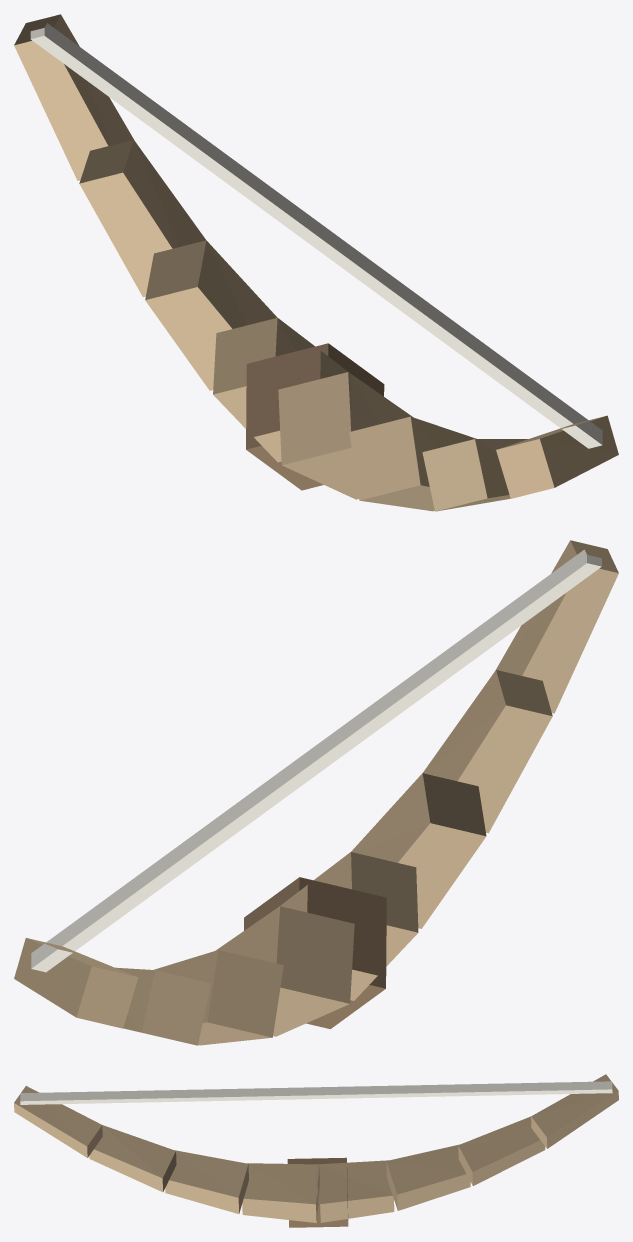
The model's file is prop_bow.glb.
3 views of the same model, one above another, from view 1: azimuth 30°, elevation 25°; view 2: azimuth 150°, elevation 25°; view 3: azimuth 270°, elevation 25° (orthographic). The views are drawn at different scales.
Parts seen in each view (by area): view 1: Arm.R.Lower.Tool.Bow.String, Arm.R.Lower.Tool.Bow#3, Arm.R.Lower.Tool.Bow#2, Arm.R.Lower.Tool.Bow#5, Arm.R.Lower.Tool.Bow, Arm.R.Lower.Tool.Bow#6, Arm.R.Lower.Tool.Bow.Grip, Arm.R.Lower.Tool.Bow#4, Arm.R.Lower.Tool.Bow#8, Arm.R.Lower.Tool.Bow#7; view 2: Arm.R.Lower.Tool.Bow.String, Arm.R.Lower.Tool.Bow#6, Arm.R.Lower.Tool.Bow#7, Arm.R.Lower.Tool.Bow#4, Arm.R.Lower.Tool.Bow#8, Arm.R.Lower.Tool.Bow#3, Arm.R.Lower.Tool.Bow.Grip, Arm.R.Lower.Tool.Bow, Arm.R.Lower.Tool.Bow#5, Arm.R.Lower.Tool.Bow#2; view 3: Arm.R.Lower.Tool.Bow.String, Arm.R.Lower.Tool.Bow#5, Arm.R.Lower.Tool.Bow#4, Arm.R.Lower.Tool.Bow#3, Arm.R.Lower.Tool.Bow#6, Arm.R.Lower.Tool.Bow#2, Arm.R.Lower.Tool.Bow#7, Arm.R.Lower.Tool.Bow, Arm.R.Lower.Tool.Bow#8, Arm.R.Lower.Tool.Bow.Grip.
Part boxes in pixels (x1,y1,x2,y2): Arm.R.Lower.Tool.Bow.String: (30,23,602,448); Arm.R.Lower.Tool.Bow#3: (145,240,280,390); Arm.R.Lower.Tool.Bow#2: (79,140,208,297); Arm.R.Lower.Tool.Bow#5: (278,372,413,499); Arm.R.Lower.Tool.Bow: (14,14,135,180); Arm.R.Lower.Tool.Bow#6: (349,416,476,511); Arm.R.Lower.Tool.Bow.Grip: (246,343,384,490); Arm.R.Lower.Tool.Bow#4: (213,317,350,462); Arm.R.Lower.Tool.Bow#8: (496,415,618,498); Arm.R.Lower.Tool.Bow#7: (422,439,527,511); Arm.R.Lower.Tool.Bow.String: (31,549,601,972); Arm.R.Lower.Tool.Bow#6: (347,773,486,928); Arm.R.Lower.Tool.Bow#7: (420,670,552,833); Arm.R.Lower.Tool.Bow#4: (216,906,354,1036); Arm.R.Lower.Tool.Bow#8: (494,540,618,713); Arm.R.Lower.Tool.Bow#3: (154,950,283,1045); Arm.R.Lower.Tool.Bow.Grip: (244,877,386,1029); Arm.R.Lower.Tool.Bow: (14,938,138,1028); Arm.R.Lower.Tool.Bow#5: (277,852,418,1000); Arm.R.Lower.Tool.Bow#2: (115,967,210,1045); Arm.R.Lower.Tool.Bow.String: (20,1081,612,1104); Arm.R.Lower.Tool.Bow#5: (242,1163,319,1222); Arm.R.Lower.Tool.Bow#4: (315,1160,394,1222); Arm.R.Lower.Tool.Bow#3: (386,1144,470,1210); Arm.R.Lower.Tool.Bow#6: (165,1150,248,1213); Arm.R.Lower.Tool.Bow#2: (458,1116,545,1185); Arm.R.Lower.Tool.Bow#7: (89,1125,176,1192); Arm.R.Lower.Tool.Bow: (531,1074,618,1148); Arm.R.Lower.Tool.Bow#8: (14,1086,102,1157); Arm.R.Lower.Tool.Bow.Grip: (287,1157,348,1227).
Size of the model in its own units: 0.1424 by 0.4054 by 1.63.
